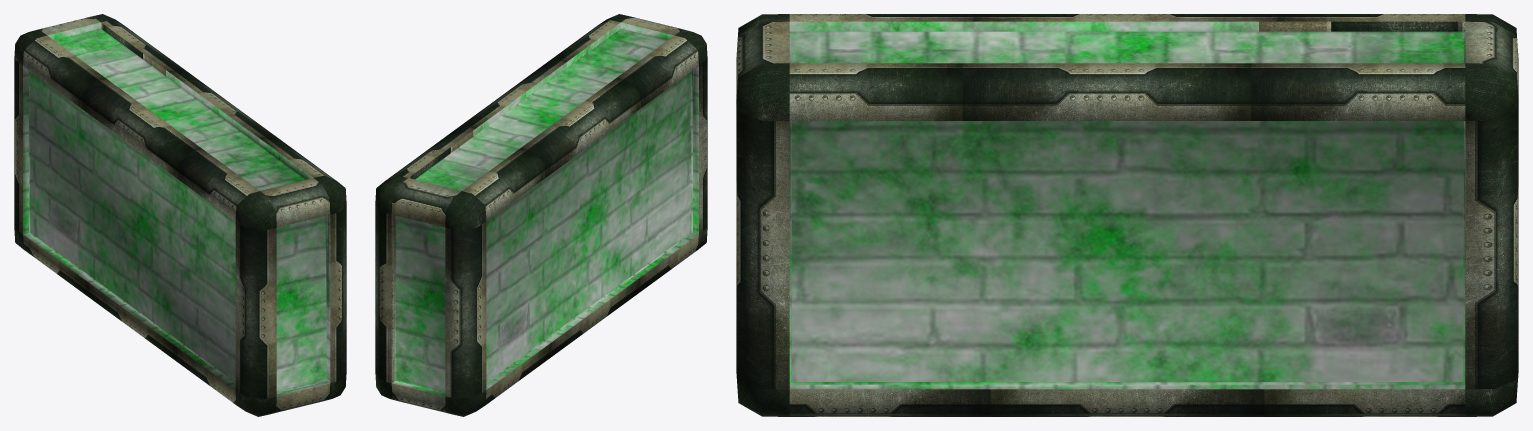
File: Platform1.fbx
3 views of the same model, side by side, from view 1: azimuth 30°, elevation 25°; view 2: azimuth 150°, elevation 25°; view 3: azimuth 270°, elevation 25° (orthographic). The views are drawn at different scales.
Parts seen in each view (by area): view 1: Cube.002; view 2: Cube.002; view 3: Cube.002.
Boxes of the visible parts, x1=… form: Cube.002: x1=14, y1=14, x2=346, y2=416; Cube.002: x1=375, y1=14, x2=707, y2=416; Cube.002: x1=736, y1=14, x2=1518, y2=416.
Bounding box in the file's own units: 52.13 × 106 × 217.
